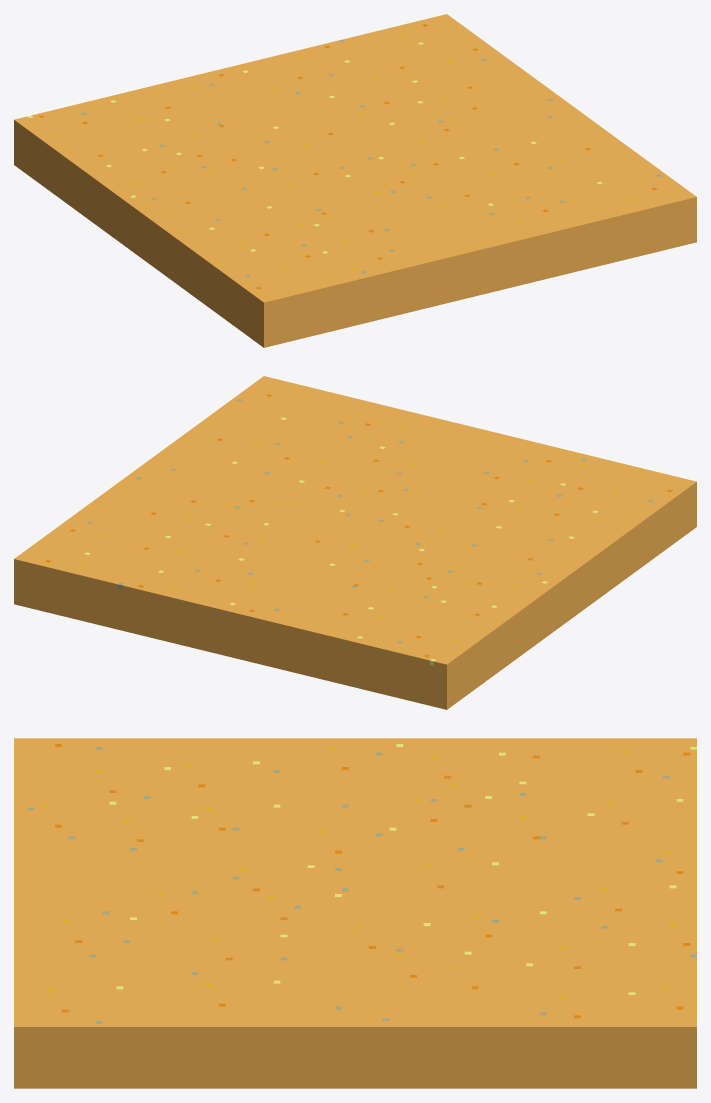
The model's file is sand1.obj.
3 renders of one model, top to bottom at view 1: azimuth 30°, elevation 25°; view 2: azimuth 150°, elevation 25°; view 3: azimuth 270°, elevation 25°, orthographic. The views are drawn at different scales.
Bounding box in the file's own units: 10 × 1 × 10.
